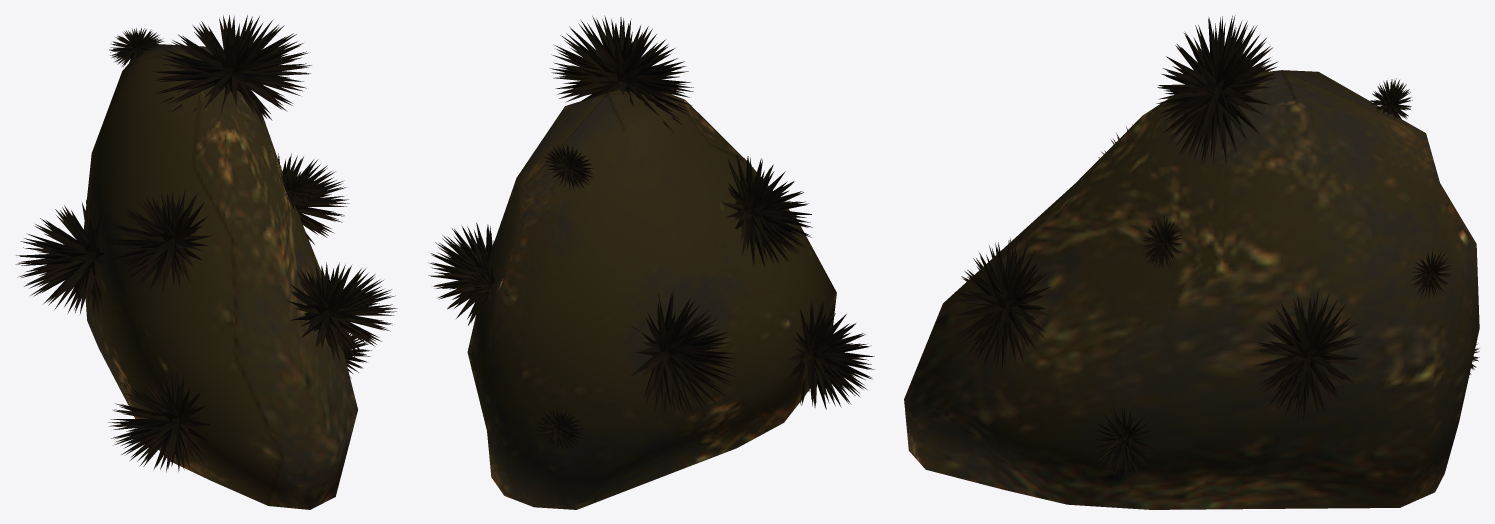
The model's file is Scoglio_Piccolo.FBX.
3 views of the same model, side by side, from view 1: azimuth 30°, elevation 25°; view 2: azimuth 150°, elevation 25°; view 3: azimuth 270°, elevation 25° (orthographic). The views are drawn at different scales.
Parts seen in each view (by area): view 1: Object006; view 2: Object006; view 3: Object006.
Part boxes in pixels (box(x1,y1,x2,y2)): Object006: box(15, 15, 397, 509); Object006: box(428, 15, 874, 509); Object006: box(904, 15, 1479, 509).
Size of the model in its own units: 4.06 by 4.6 by 5.26.
